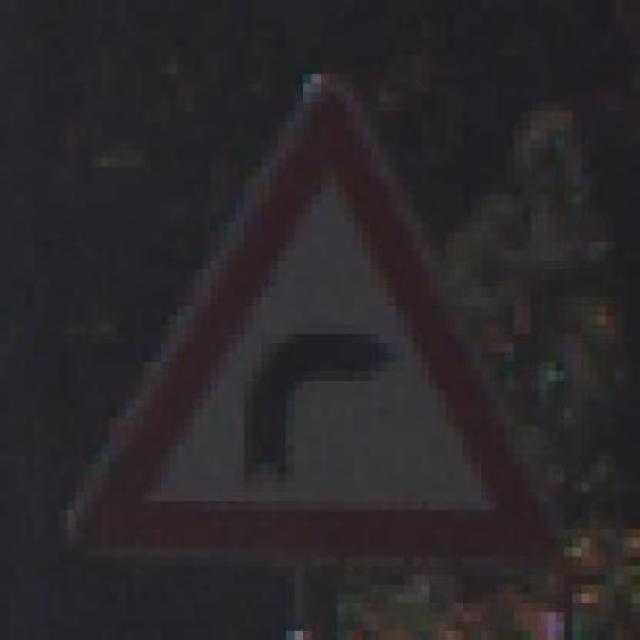Dangerous Rright Curve Ahead: (58, 73, 564, 584)
